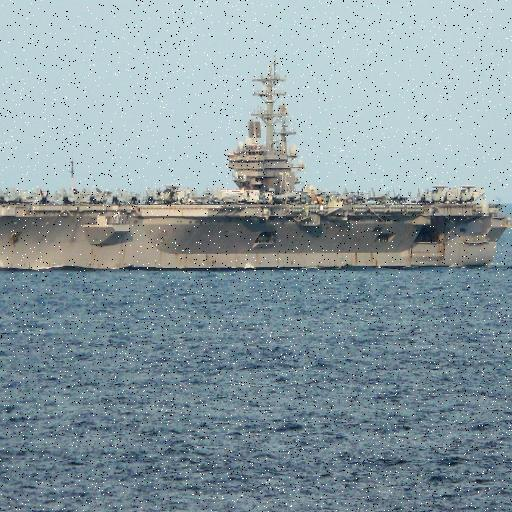Portanaves: (1, 50, 512, 276)
